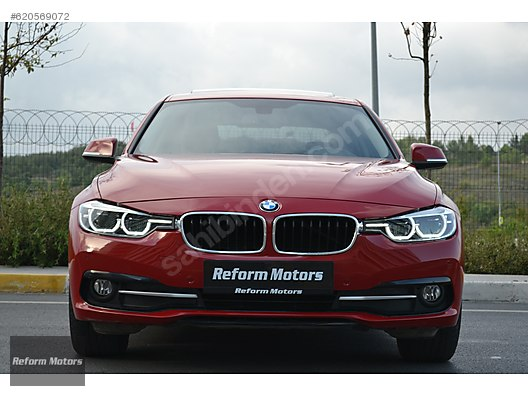b: (62, 83, 465, 365)
